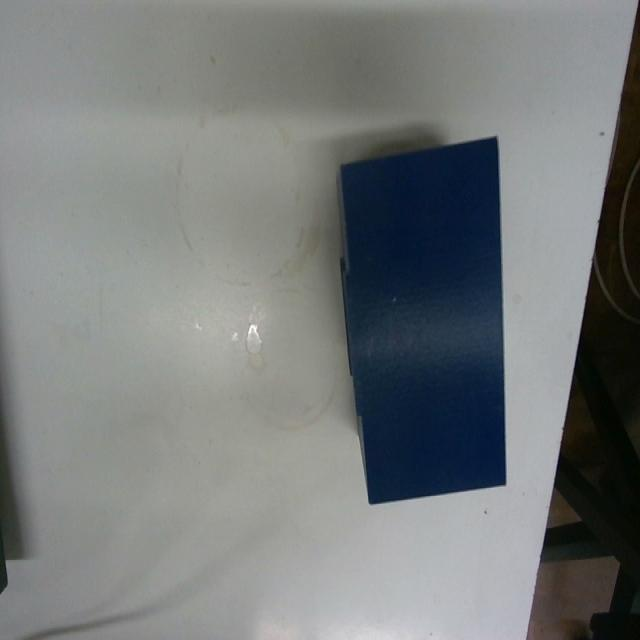Blue Cuboid: (333, 132, 509, 505)
